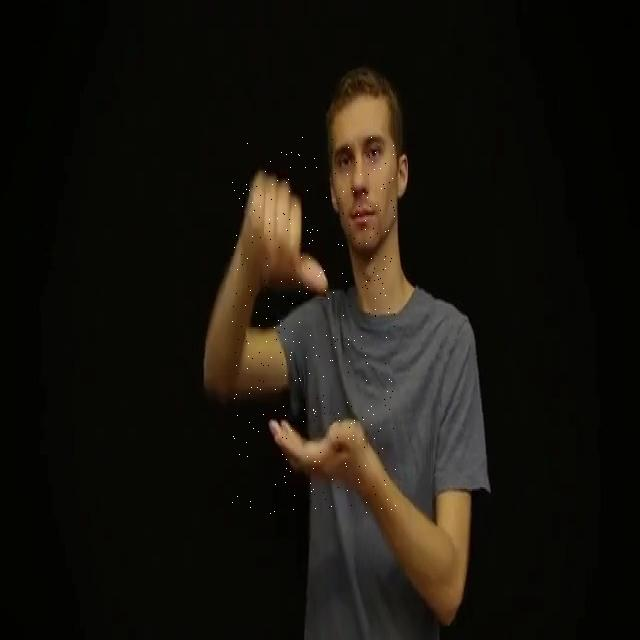sauce: (232, 135, 396, 514)
